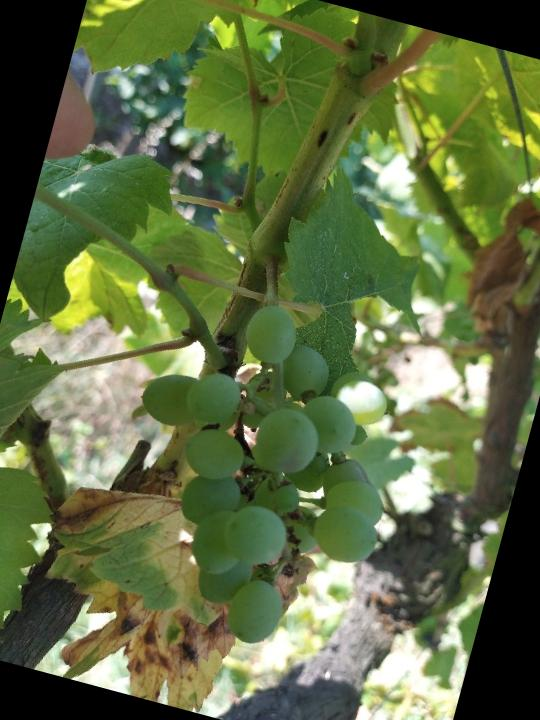grape: (84, 271, 435, 674)
